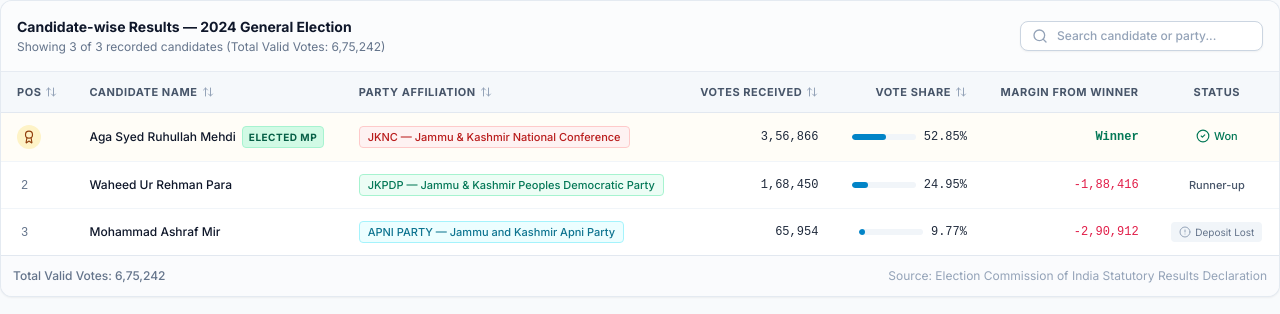
Scenario: Component & Interaction Tests › ResultsTable › renders candidates and allows searching by candidate name
Expected: the text "Aga Syed Ruhullah Mehdi" is shown, [90, 129, 236, 144]
Expected: the text "Waheed Ur Rehman Para" is shown, [90, 177, 232, 192]
Search for specific candidate
In the field with placeholder "Search candidate or party...": (1142, 36) [1020, 21, 1263, 51], type "Ruhullah"
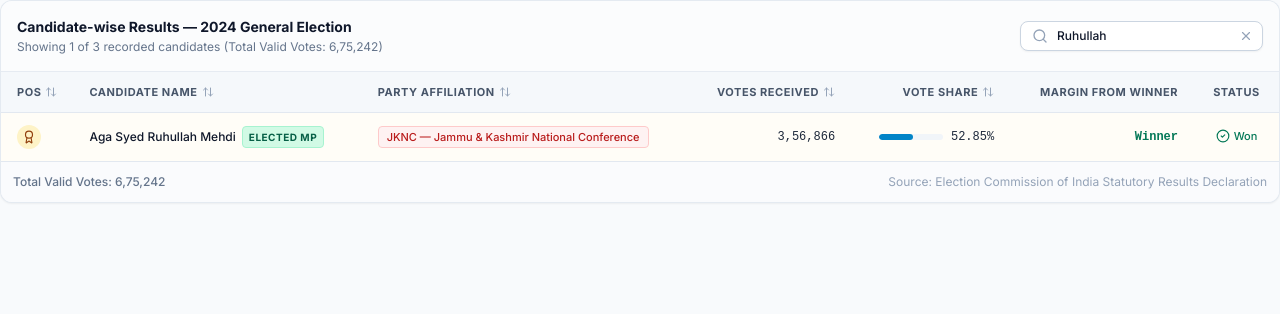
Expected: the text "Aga Syed Ruhullah Mehdi" is shown, [90, 129, 236, 144]
Expected: the text "Waheed Ur Rehman Para" is gone
